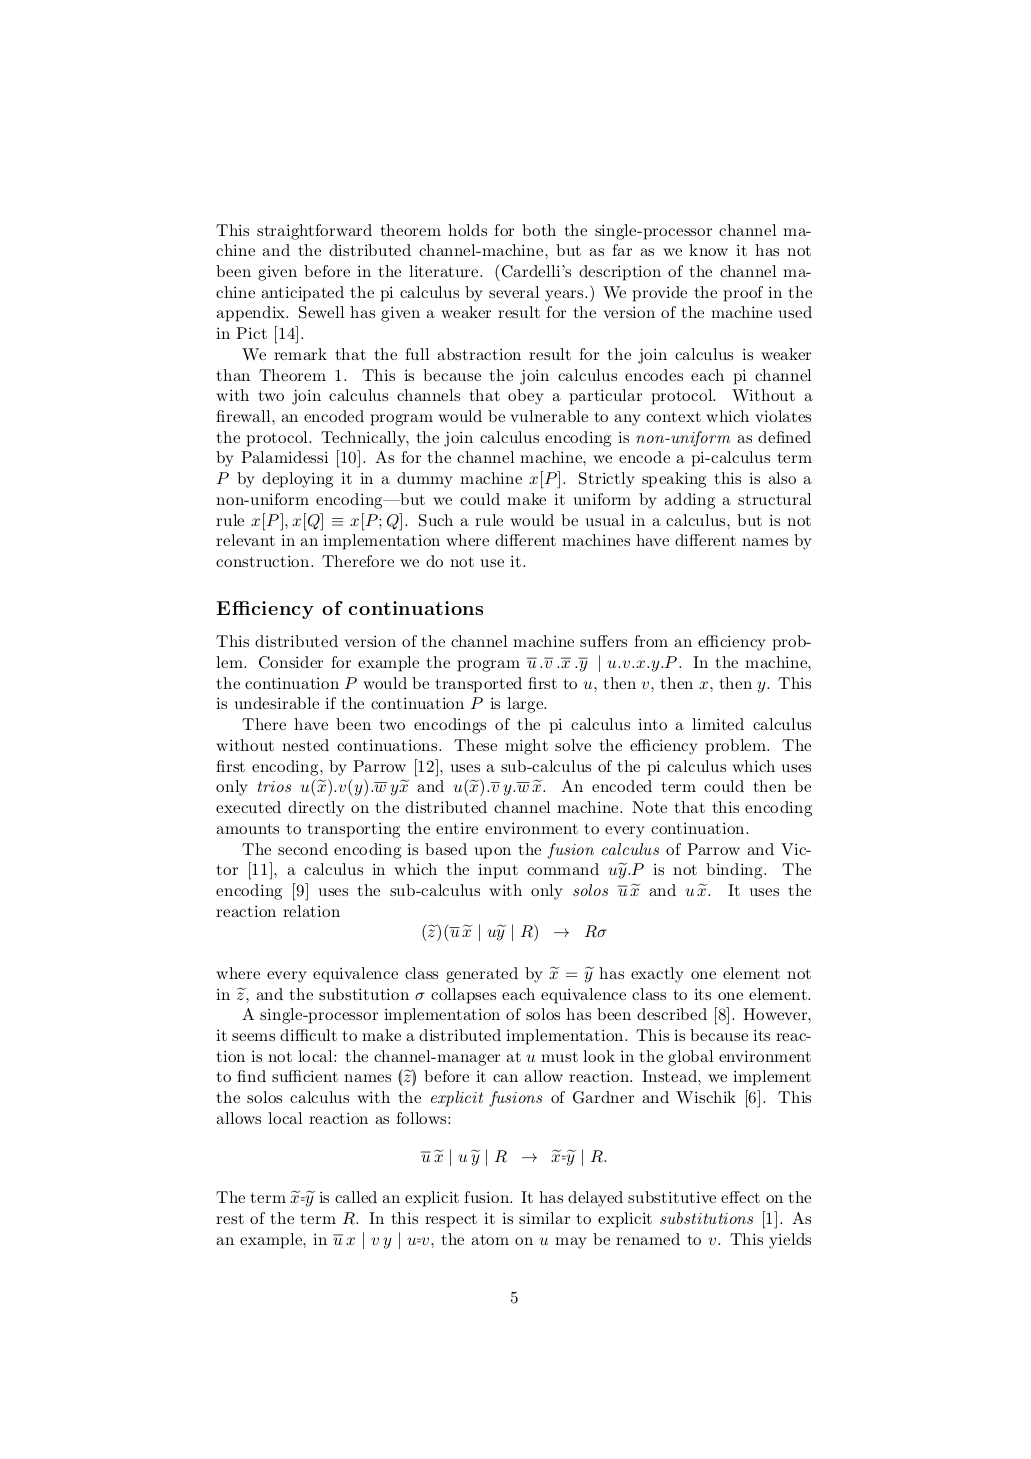formula: (422, 922, 606, 943), (420, 1148, 606, 1167)
